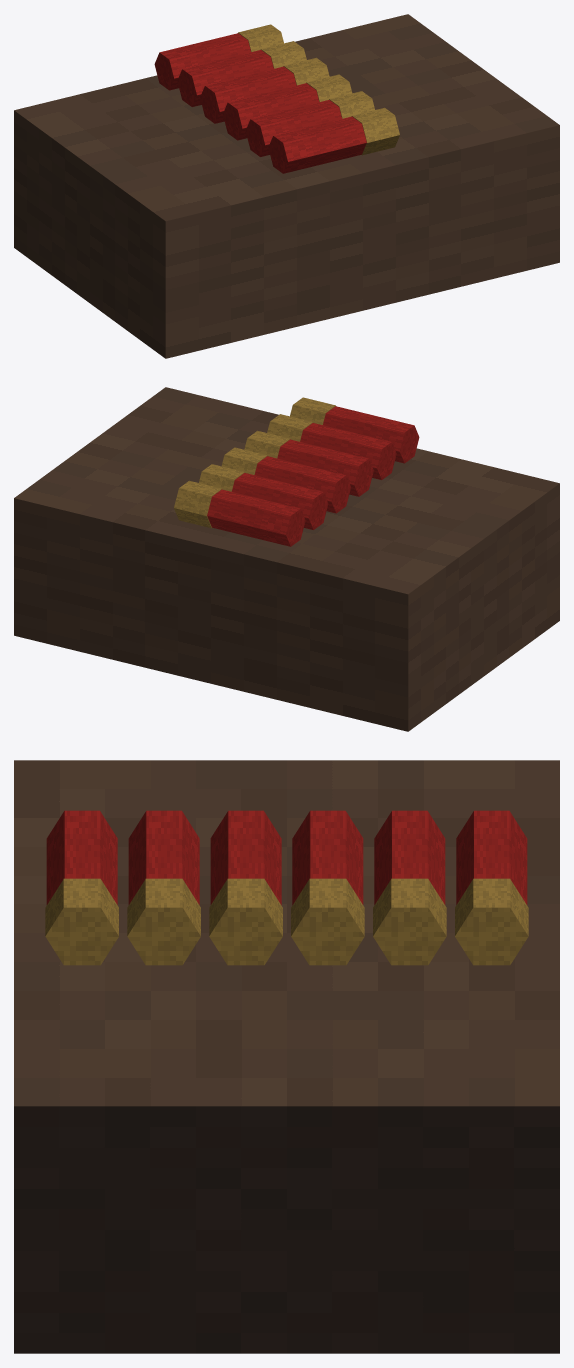
File: pickup_ammo_shells.glb
The picture shows the model from 3 angles, top to bottom: view 1: azimuth 30°, elevation 25°; view 2: azimuth 150°, elevation 25°; view 3: azimuth 270°, elevation 25°; orthographic projection. The views are drawn at different scales.
Visible parts, largest first — view 1: pickup_ammo_shells; view 2: pickup_ammo_shells; view 3: pickup_ammo_shells.
Boxes of the visible parts, x1,y1,x2,y2 form: pickup_ammo_shells: (14, 14, 559, 358); pickup_ammo_shells: (14, 387, 559, 731); pickup_ammo_shells: (14, 760, 559, 1353).
Bounding box in the file's own units: 0.3 × 0.1267 × 0.2.
Materials: 1 (1 with a texture image).
